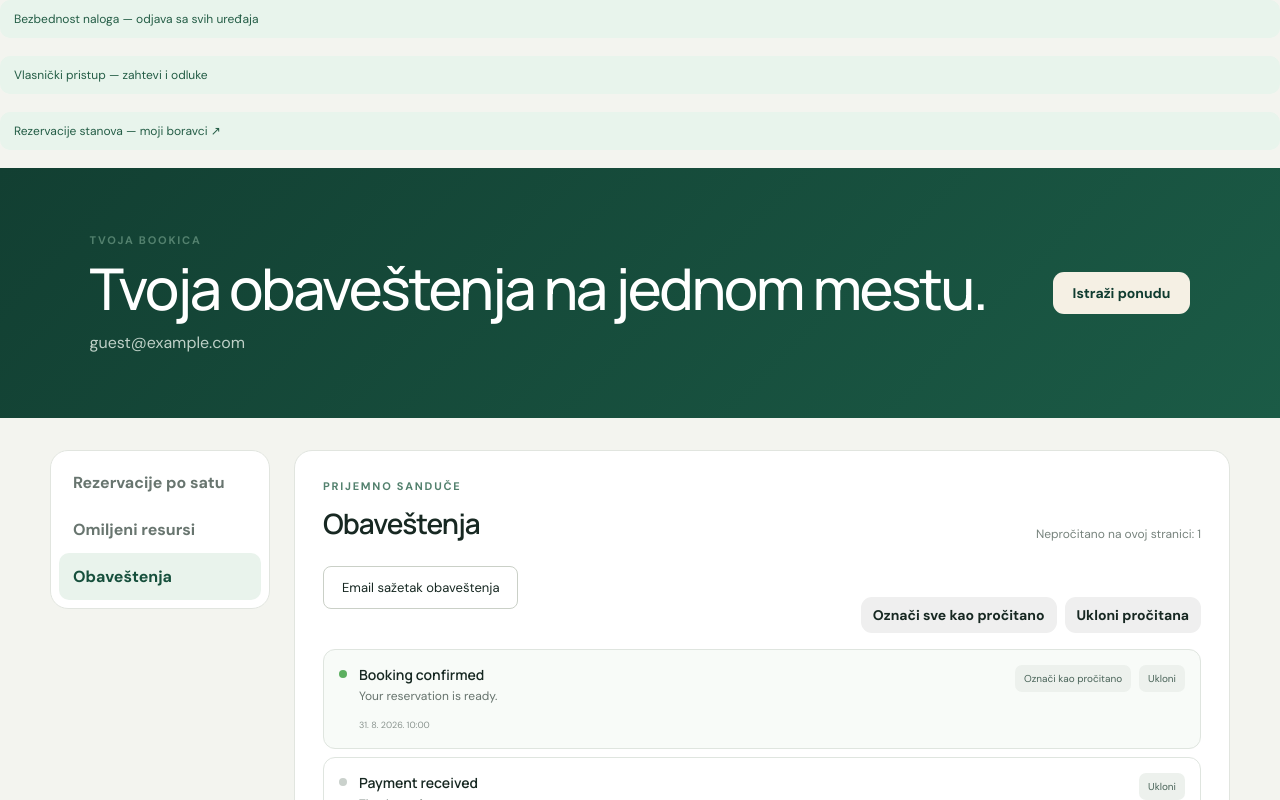
Test case: AccountDashboard notification inbox › dismisses one notification and clears only read notifications
expect the text "Payment received" is shown: met, box top-left (359, 773), bottom-right (478, 792)
What coordinates should you click on to do the following:
click the button "Ukloni" in the row of "Thank you for your payment."
I would click on:
 (1162, 786)
Its box is top-left (1139, 773), bottom-right (1185, 799).
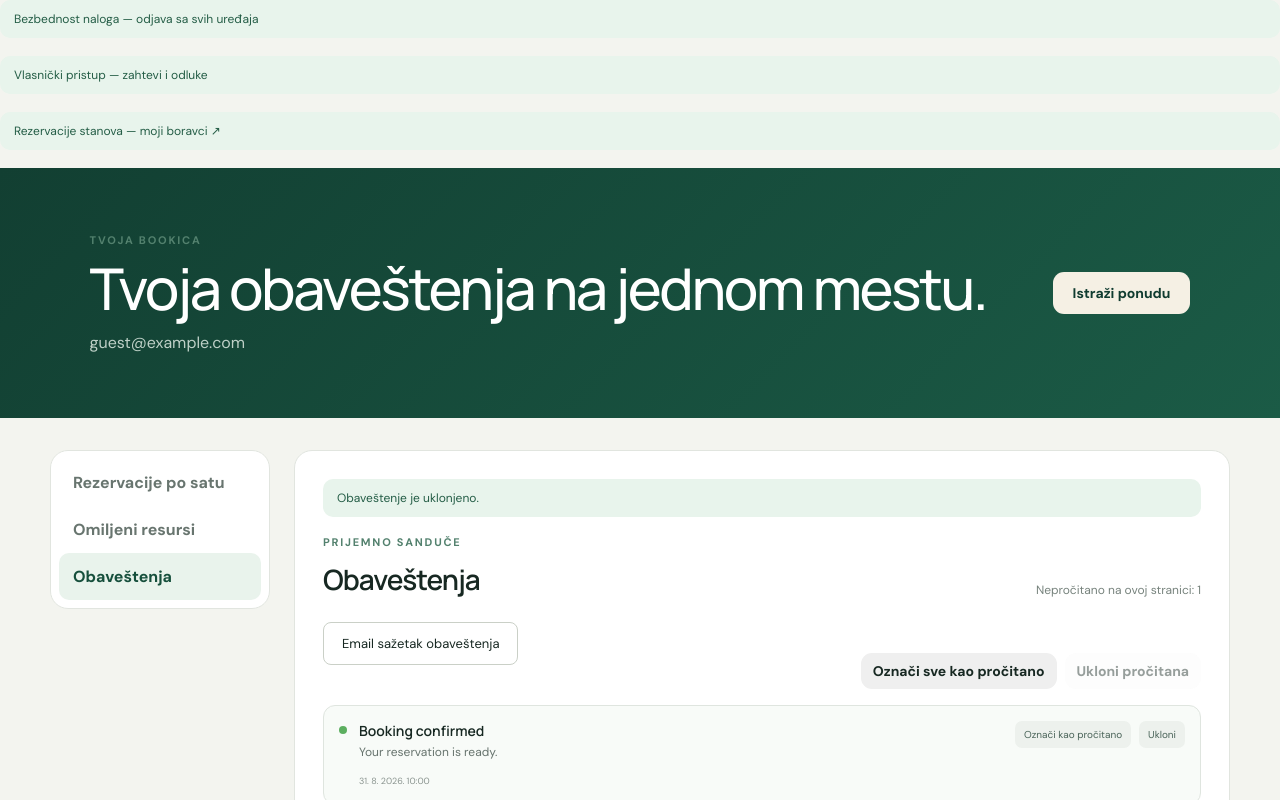
expect the heading "Booking confirmed" is shown: met, box top-left (359, 721), bottom-right (484, 740)
expect the heading "Payment received" is gone: met
expect the button "Ukloni pročitana" is disabled: met, box top-left (1064, 653), bottom-right (1201, 689)
